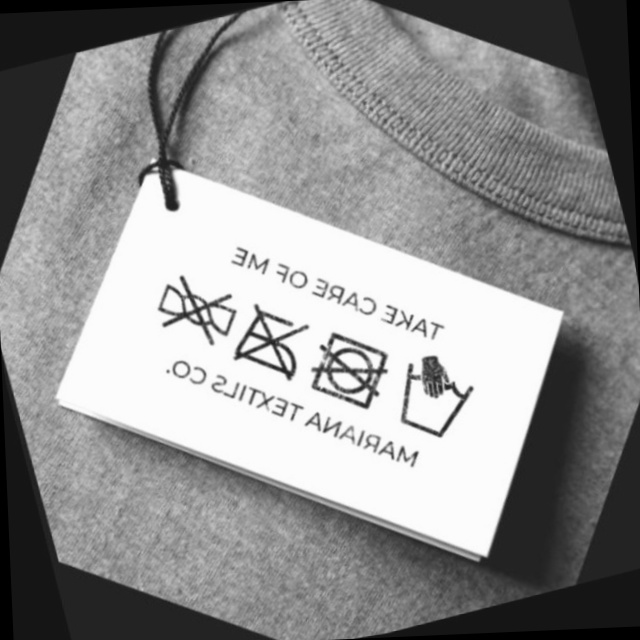DN_iron: (225, 293, 318, 391)
DN_tumble_dry: (303, 318, 402, 417)
DN_wring: (148, 261, 244, 354)
hand_wash: (384, 343, 487, 453)
